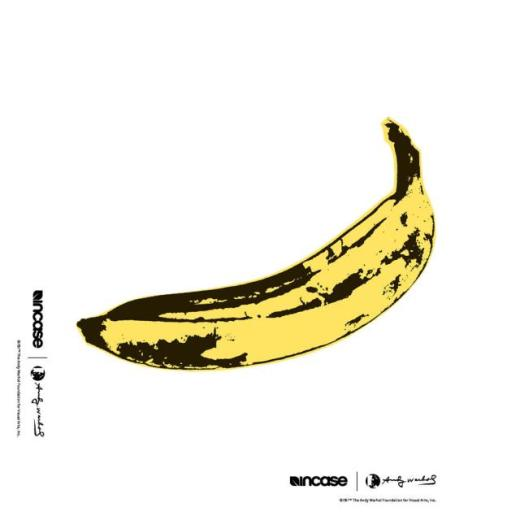Banana: (76, 116, 436, 374)
